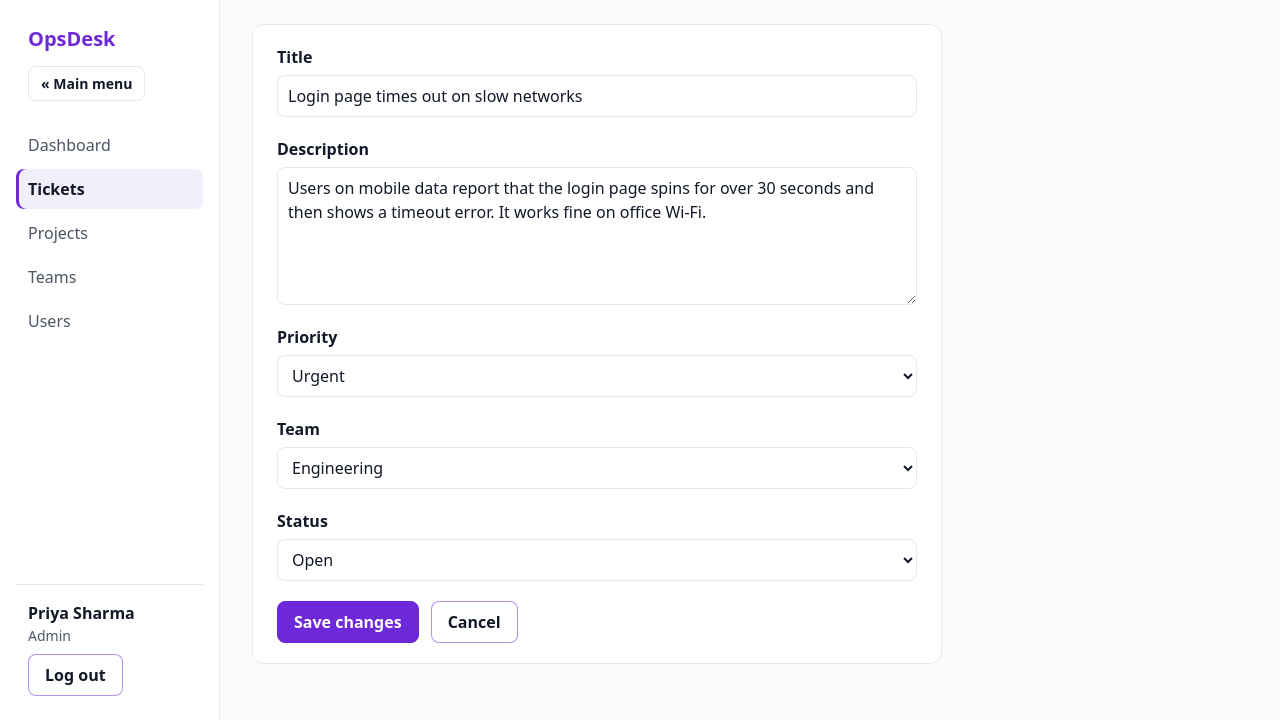
Test: EditTicketPage › sends no request at all when nothing changed
(page scrolled)
Expected: the field labelled "Title" is shown, [277, 75, 917, 117]
What coordinates should you click on to do the following:
click the button "Save changes"
I would click on:
 (348, 622)
Its box is [277, 601, 419, 643].
(page scrolled)
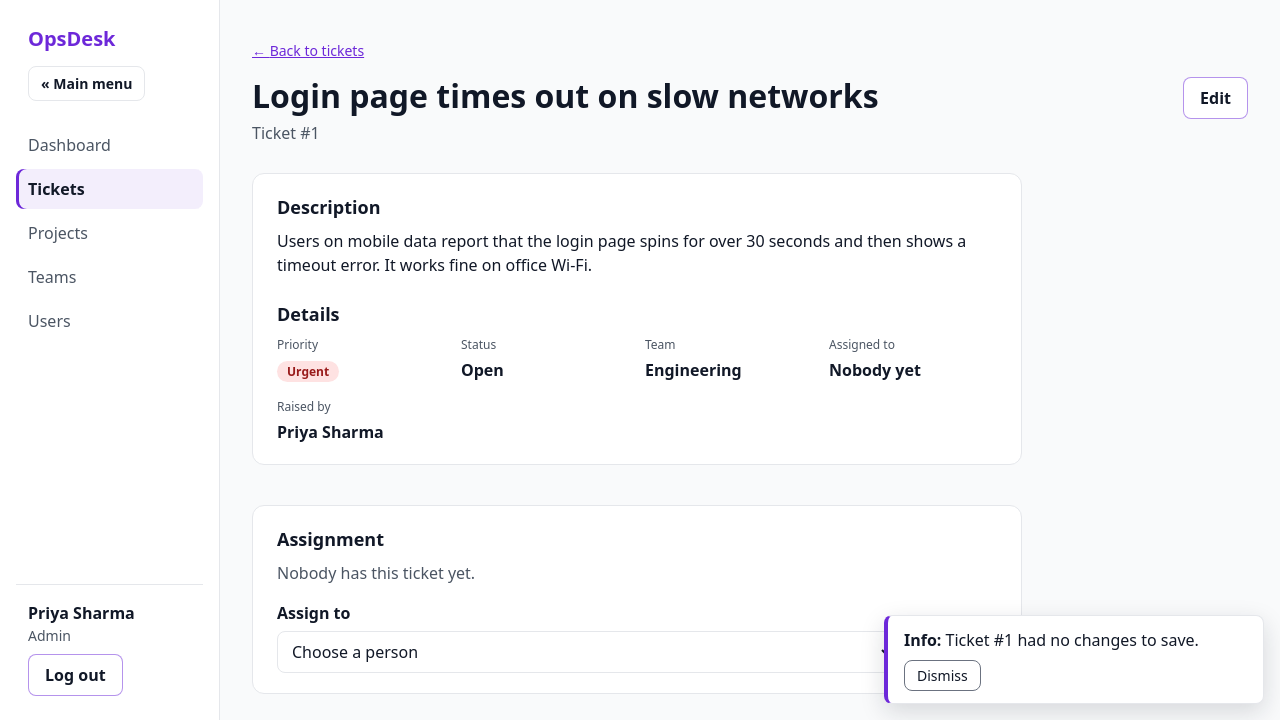
Expected: the text "Ticket #1 had no changes to save." is shown, [946, 629, 1199, 651]
Expected: the heading "Login page times out on slow networks" is shown, [252, 77, 879, 115]
